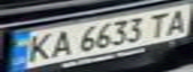3: (124, 15, 151, 43), (109, 18, 130, 47)
6: (93, 20, 115, 50), (75, 23, 96, 53)
A: (160, 6, 193, 35), (45, 27, 75, 58)
K: (21, 30, 57, 63)
T: (142, 10, 175, 38)
